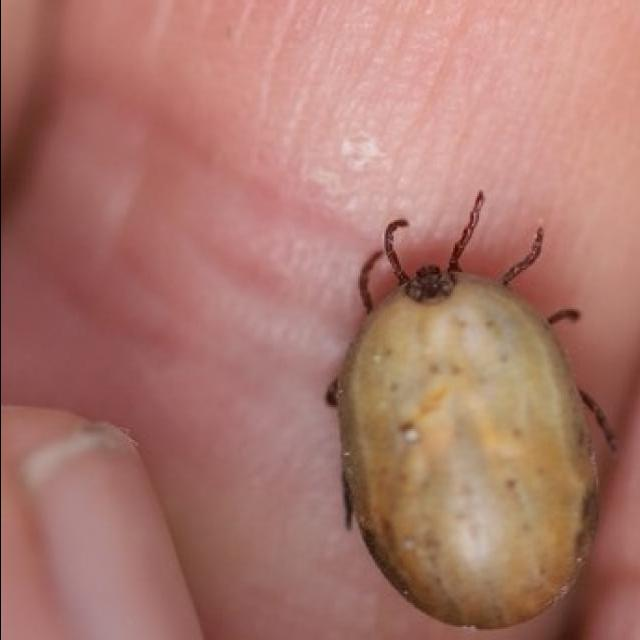Dermacentor Reticulatus-F-Fed: (324, 192, 618, 631)
